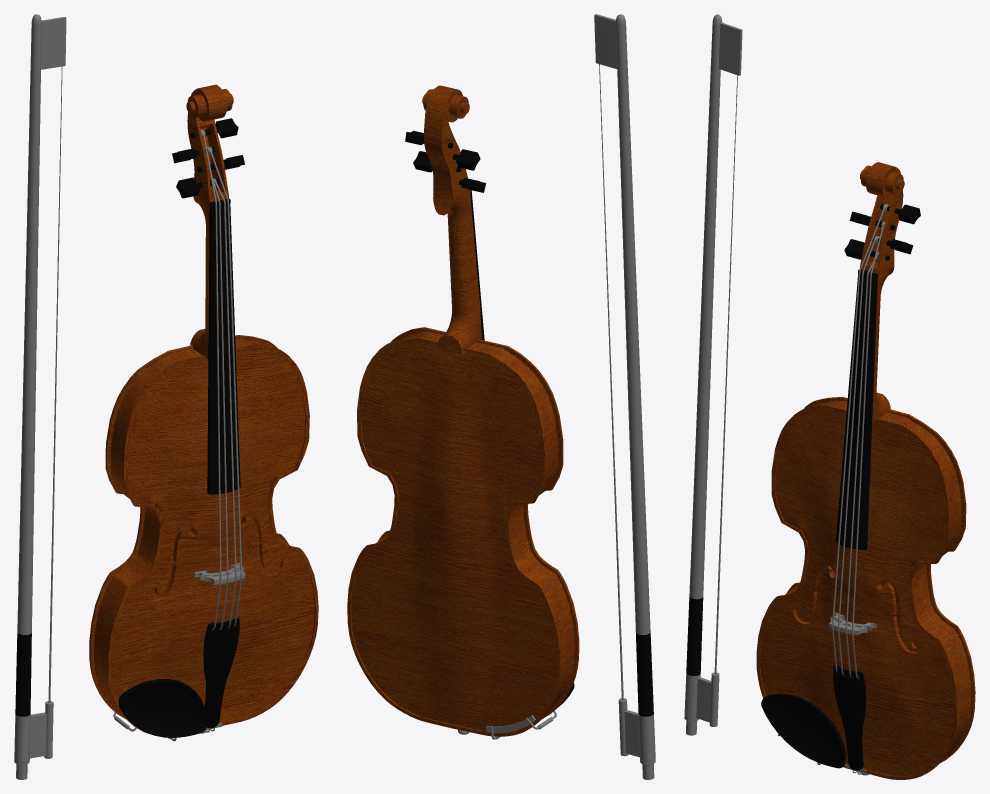
Rendered from violin.fbx.
3 renders of one model, left to right at view 1: azimuth 30°, elevation 25°; view 2: azimuth 150°, elevation 25°; view 3: azimuth 330°, elevation 25°, orthographic. The views are drawn at different scales.
Parts seen in each view (by area): view 1: 10397_Violin_L1; view 2: 10397_Violin_L1; view 3: 10397_Violin_L1.
Part boxes in pixels (left/top/right/bottom): 10397_Violin_L1: left=14, top=14, right=318, bottom=779; 10397_Violin_L1: left=347, top=14, right=655, bottom=779; 10397_Violin_L1: left=684, top=14, right=975, bottom=779.
Size of the model in its own units: 102 by 250 by 27.61.
